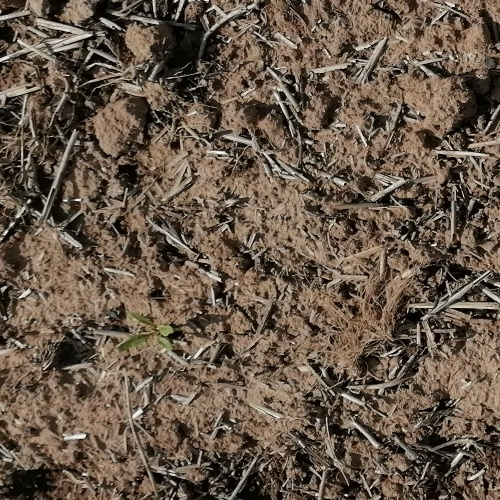beet: (116, 315, 176, 356)
